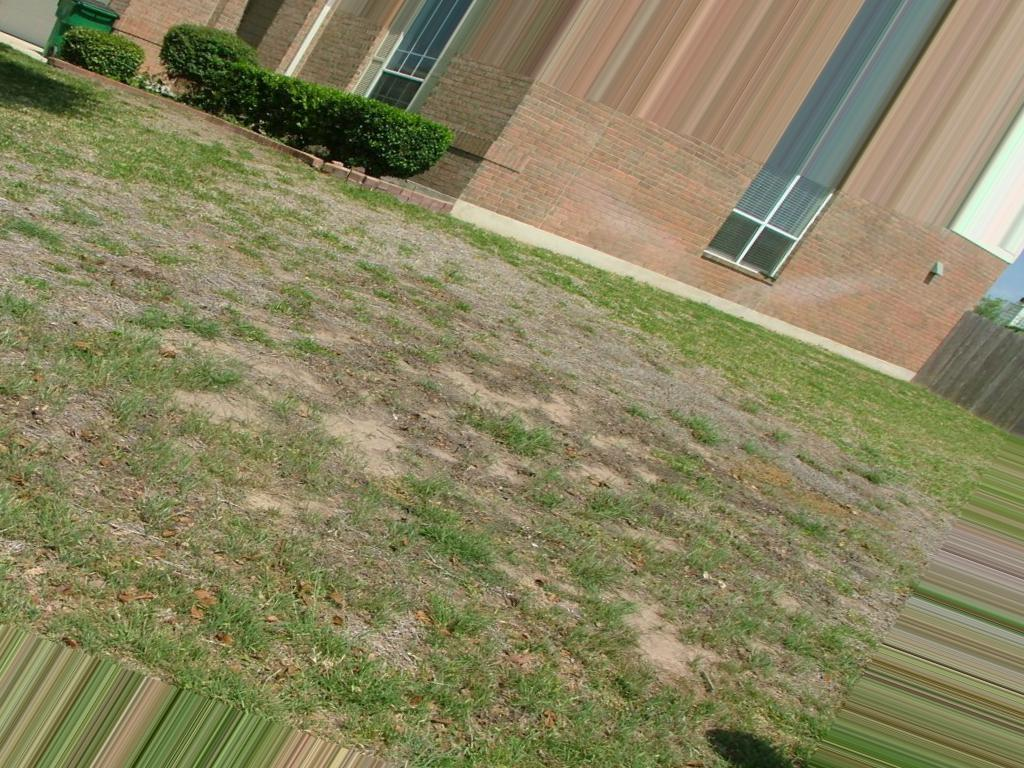patch: (82, 182, 371, 645), (411, 297, 725, 691)
